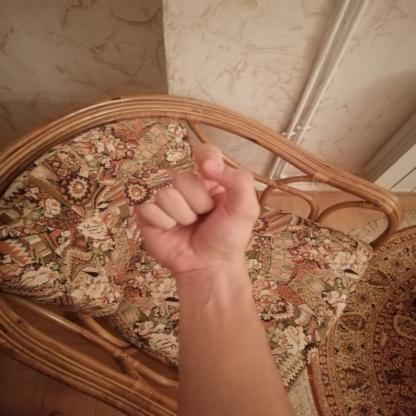FAA: (120, 133, 274, 287)
